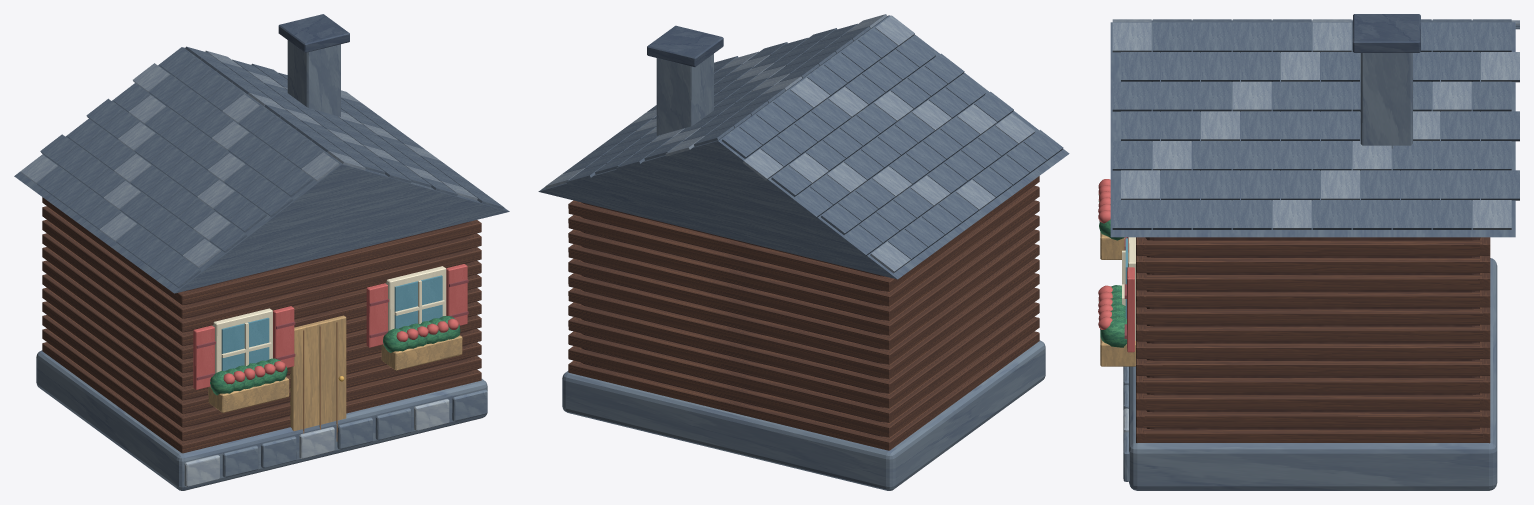
The model's file is hut.glb.
The picture shows the model from 3 angles, left to right: view 1: azimuth 30°, elevation 25°; view 2: azimuth 150°, elevation 25°; view 3: azimuth 270°, elevation 25°; orthographic projection. The views are drawn at different scales.
Visible parts, largest first — view 1: hut; view 2: hut; view 3: hut.
Part boxes in pixels (x1,y1,x2,y2): hut: (14, 14, 509, 490); hut: (538, 14, 1069, 490); hut: (1098, 14, 1519, 490).
Bounding box in the file's own units: 4.65 × 4.41 × 4.01.
1 material, 1 textured.
